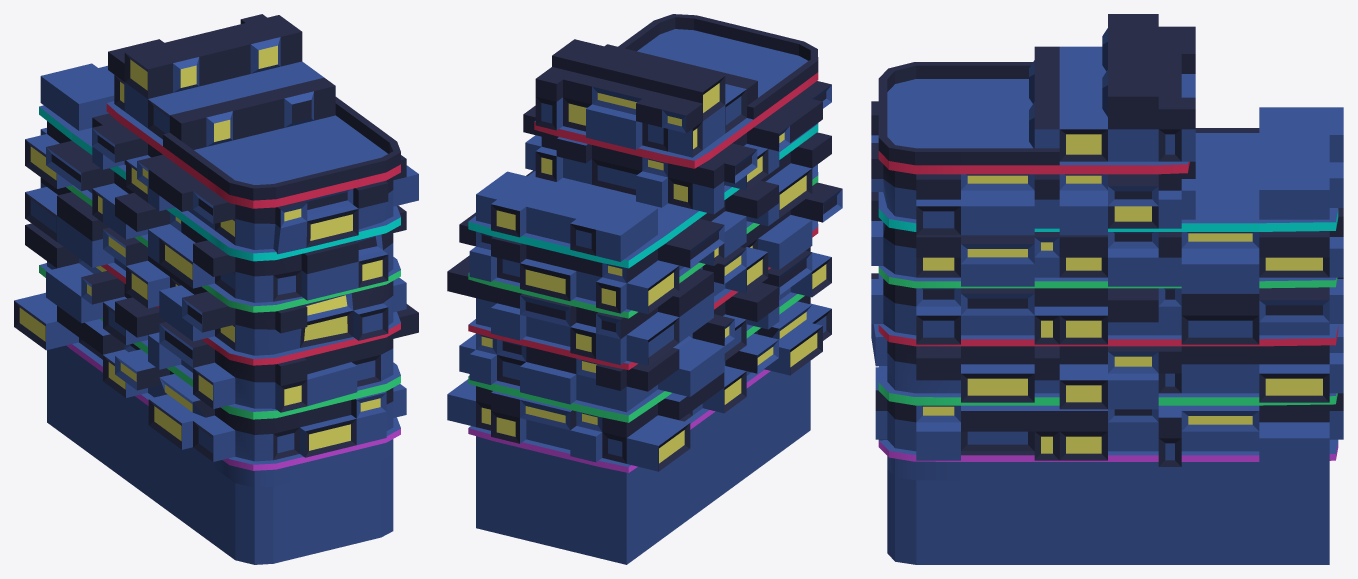
The model's file is building3.FBX.
3 views of the same model, side by side, from view 1: azimuth 30°, elevation 25°; view 2: azimuth 150°, elevation 25°; view 3: azimuth 270°, elevation 25° (orthographic). The views are drawn at different scales.
Visible parts, largest first — view 1: Box003; view 2: Box003; view 3: Box003.
Part boxes in pixels (x1,y1,x2,y2): Box003: (14,14,418,564); Box003: (447,14,842,564); Box003: (871,14,1343,564).
Size of the model in its own units: 140 by 264 by 241.
